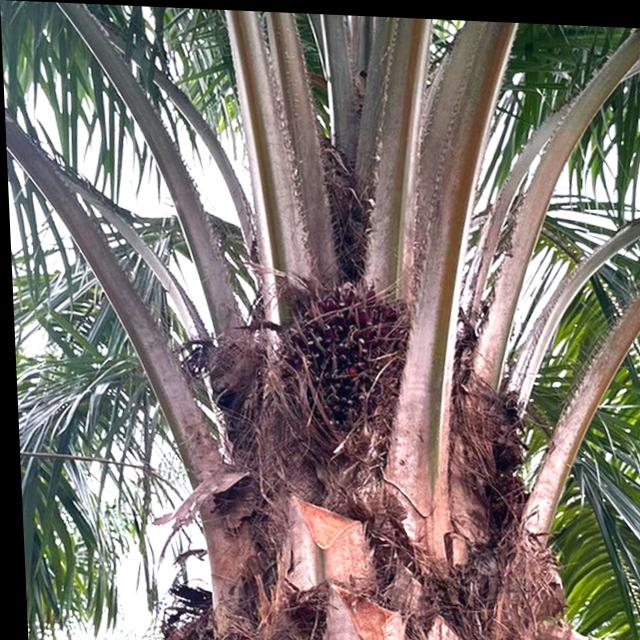ripe: (267, 270, 404, 430)
